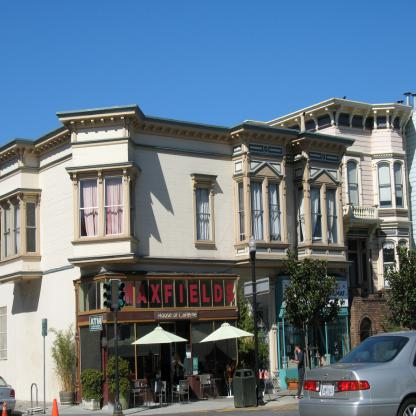Car: (302, 336, 415, 412), (0, 376, 20, 409)
